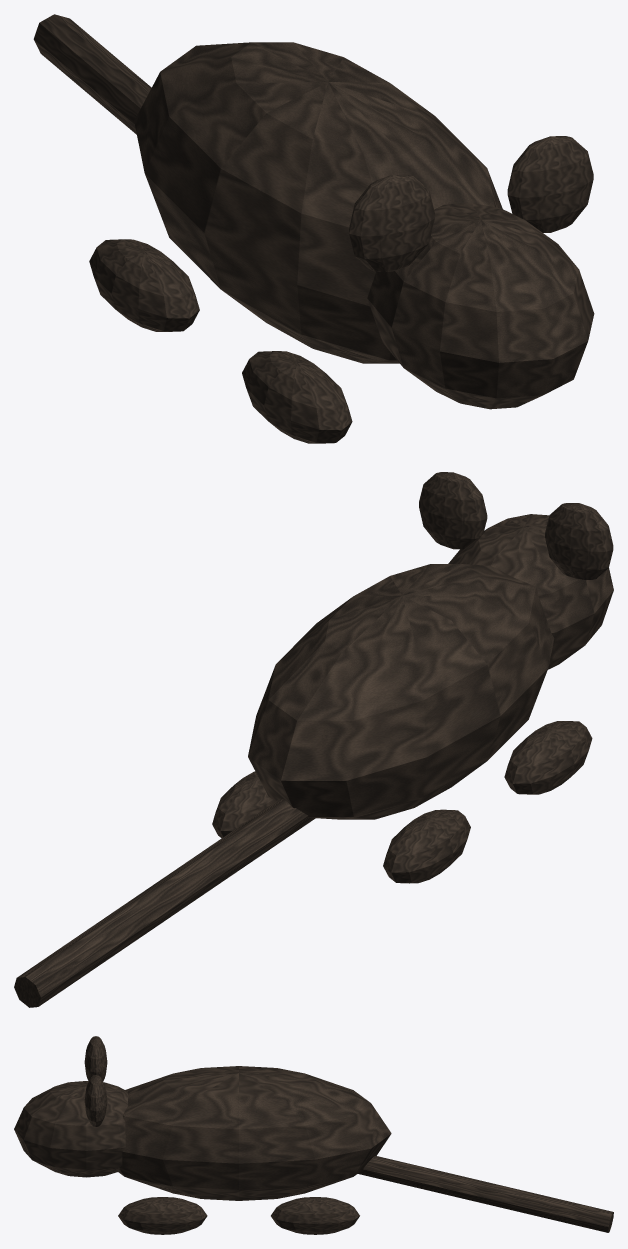
The model's file is rat.glb.
3 renders of one model, top to bottom at view 1: azimuth 30°, elevation 25°; view 2: azimuth 150°, elevation 25°; view 3: azimuth 270°, elevation 25°, orthographic. The views are drawn at different scales.
Parts seen in each view (by area): view 1: rat__BODY; view 2: rat__BODY; view 3: rat__BODY.
Boxes of the visible parts, x1,y1,x2,y2 form: rat__BODY: (33, 14, 594, 443); rat__BODY: (14, 472, 613, 1007); rat__BODY: (14, 1036, 613, 1234).
Bounding box in the file's own units: 0.17 × 0.1749 × 0.6291.
Materials: 1 (1 with a texture image).
